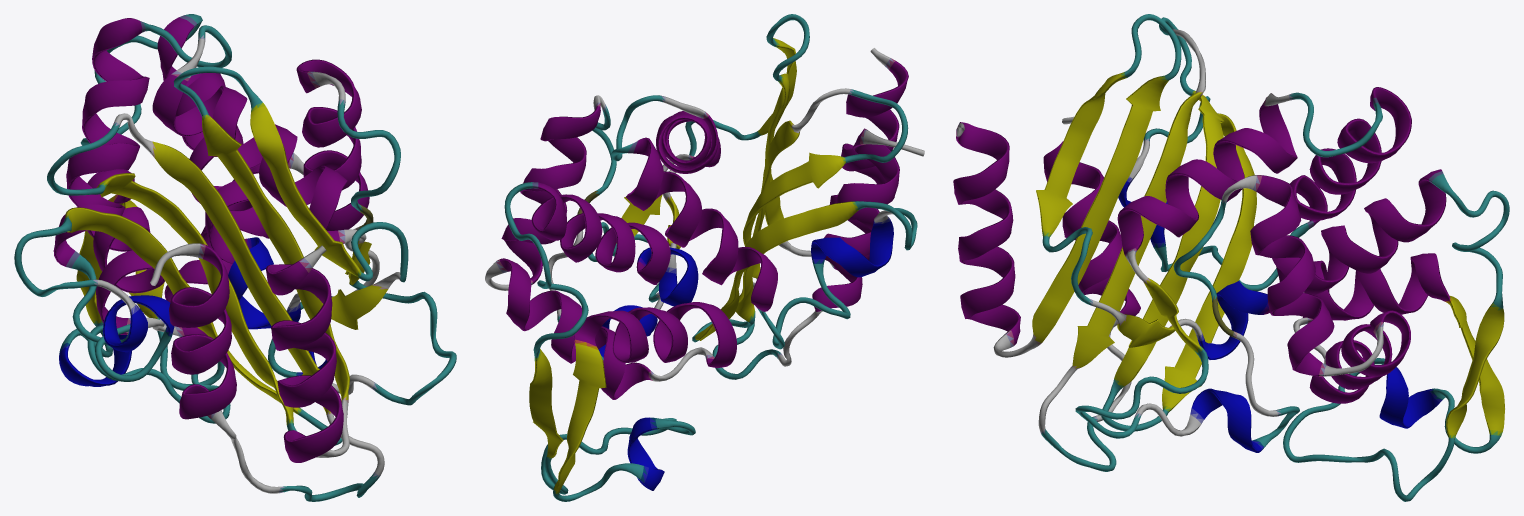
The model's file is animate.0004.obj.
3 views of the same model, side by side, from view 1: azimuth 30°, elevation 25°; view 2: azimuth 150°, elevation 25°; view 3: azimuth 270°, elevation 25° (orthographic). The views are drawn at different scales.
Visible parts, largest first — view 1: vmd_mol0_rep0; view 2: vmd_mol0_rep0; view 3: vmd_mol0_rep0.
Boxes of the visible parts, x1,y1,x2,y2 form: vmd_mol0_rep0: (14,14,456,501); vmd_mol0_rep0: (485,14,924,501); vmd_mol0_rep0: (953,14,1509,501).
Bounding box in the file's own units: 1.03 × 1.11 × 1.32.
